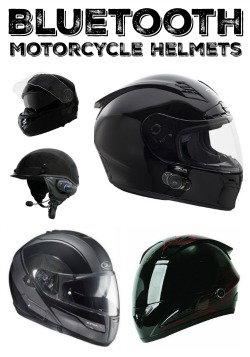with_helmet: (92, 68, 246, 214), (8, 227, 122, 352), (130, 230, 243, 346), (6, 145, 81, 219), (10, 70, 81, 137)
